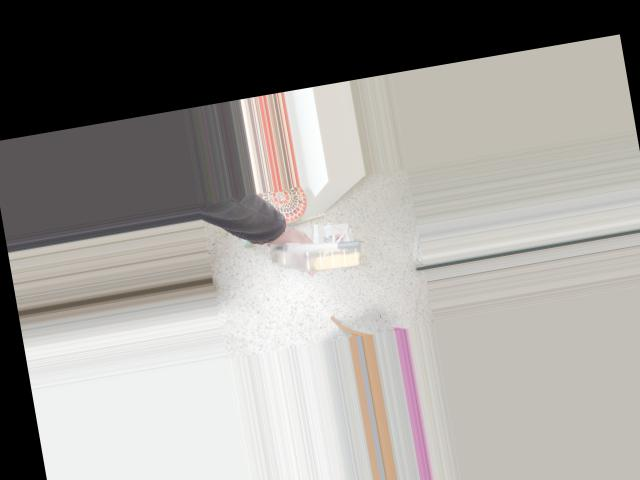cheese: (278, 183, 369, 301)
